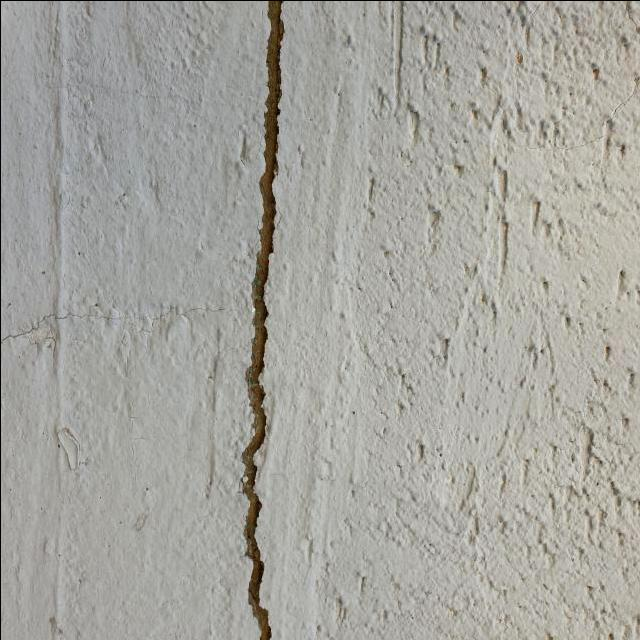SurfaceCrack: (190, 0, 340, 640)
